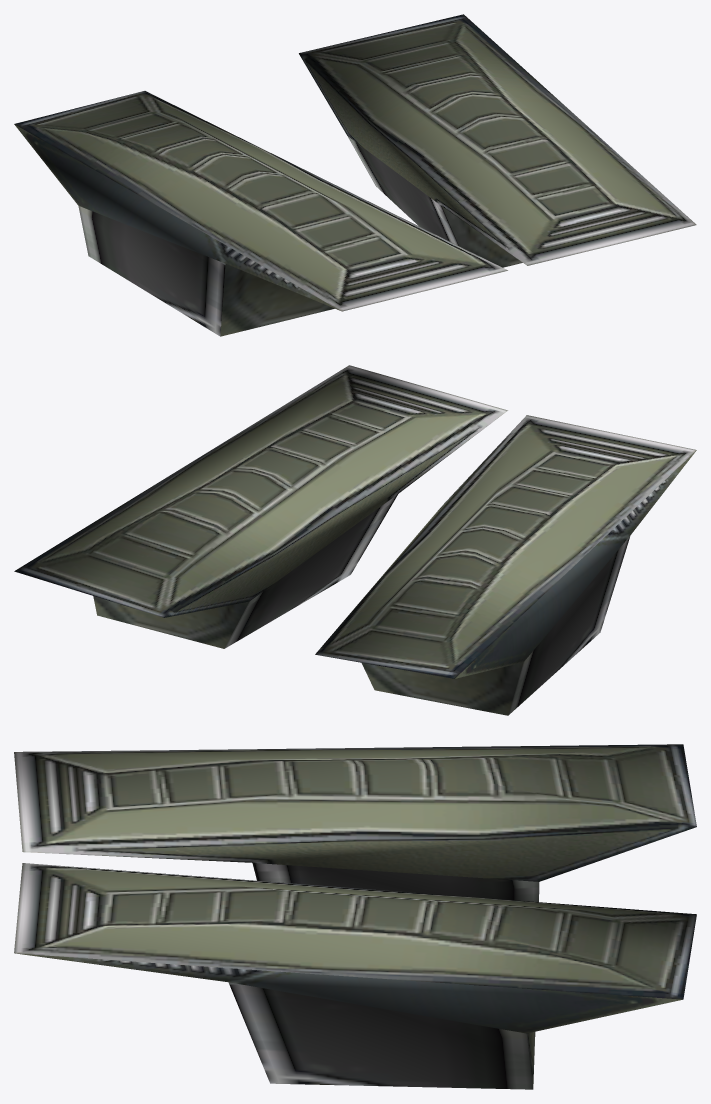
Rendered from ArmPads4__FDC.glb.
3 renders of one model, top to bottom at view 1: azimuth 30°, elevation 25°; view 2: azimuth 150°, elevation 25°; view 3: azimuth 270°, elevation 25°, orthographic. The views are drawn at different scales.
Visible parts, largest first — view 1: ArmPads4; view 2: ArmPads4; view 3: ArmPads4.
Boxes of the visible parts, box(x1,y1,x2,y2) form: ArmPads4: box(14, 14, 696, 336); ArmPads4: box(14, 365, 696, 715); ArmPads4: box(14, 744, 696, 1089).
Bounding box in the file's own units: 15.19 × 3.86 × 17.06.
Materials: 1 (1 with a texture image).
